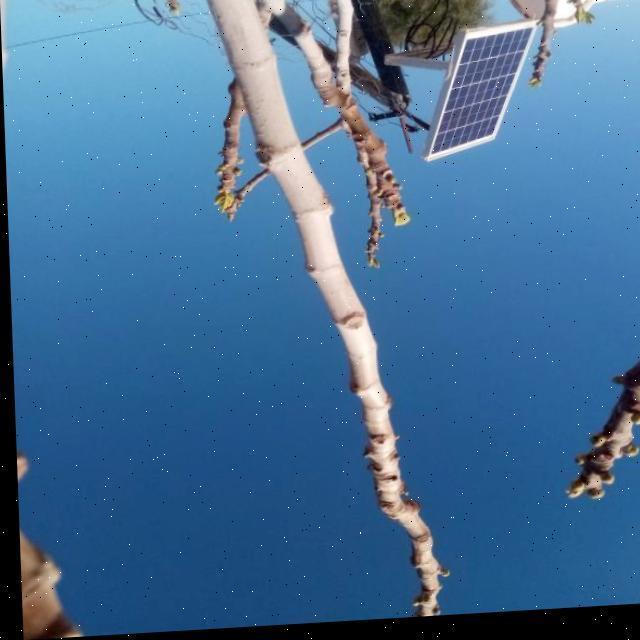Normal Solar Panel: (419, 26, 540, 166)
